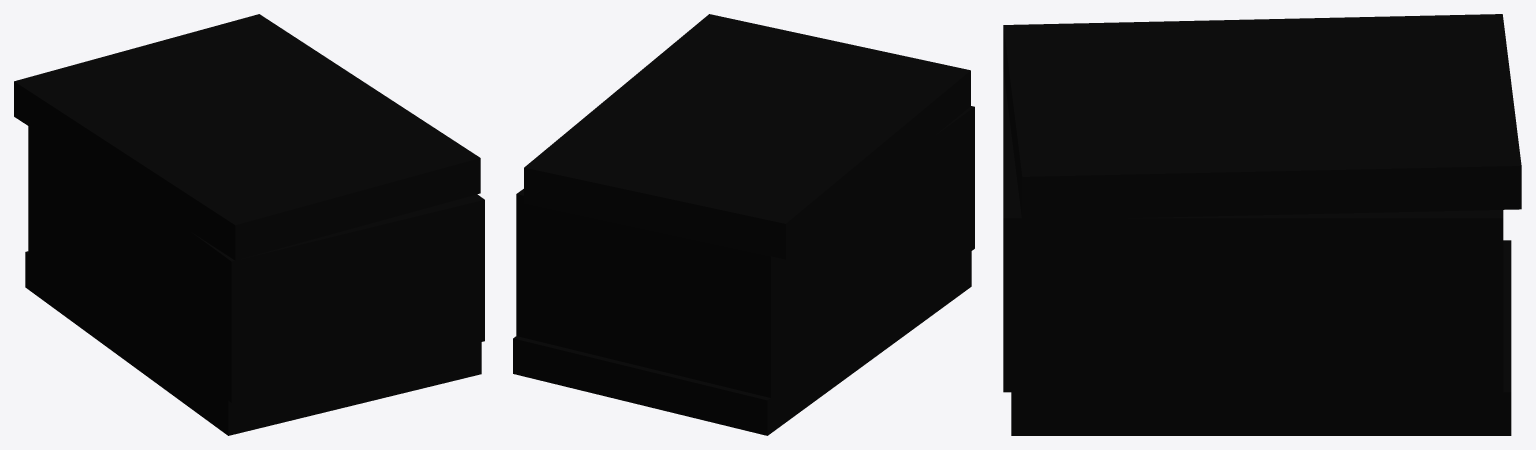
3 renders of one model, left to right at view 1: azimuth 30°, elevation 25°; view 2: azimuth 150°, elevation 25°; view 3: azimuth 270°, elevation 25°, orthographic. The views are drawn at different scales.
Parts seen in each view (by area): view 1: Joint_0_Object_0; view 2: Joint_0_Object_0; view 3: Joint_0_Object_0.
Part boxes in pixels (x1,y1,x2,y2): Joint_0_Object_0: (14,14,484,435); Joint_0_Object_0: (513,14,974,435); Joint_0_Object_0: (1003,14,1521,435).
Bounding box in the file's own units: 482 × 360 × 648.
Materials: 1 (1 with a texture image).
